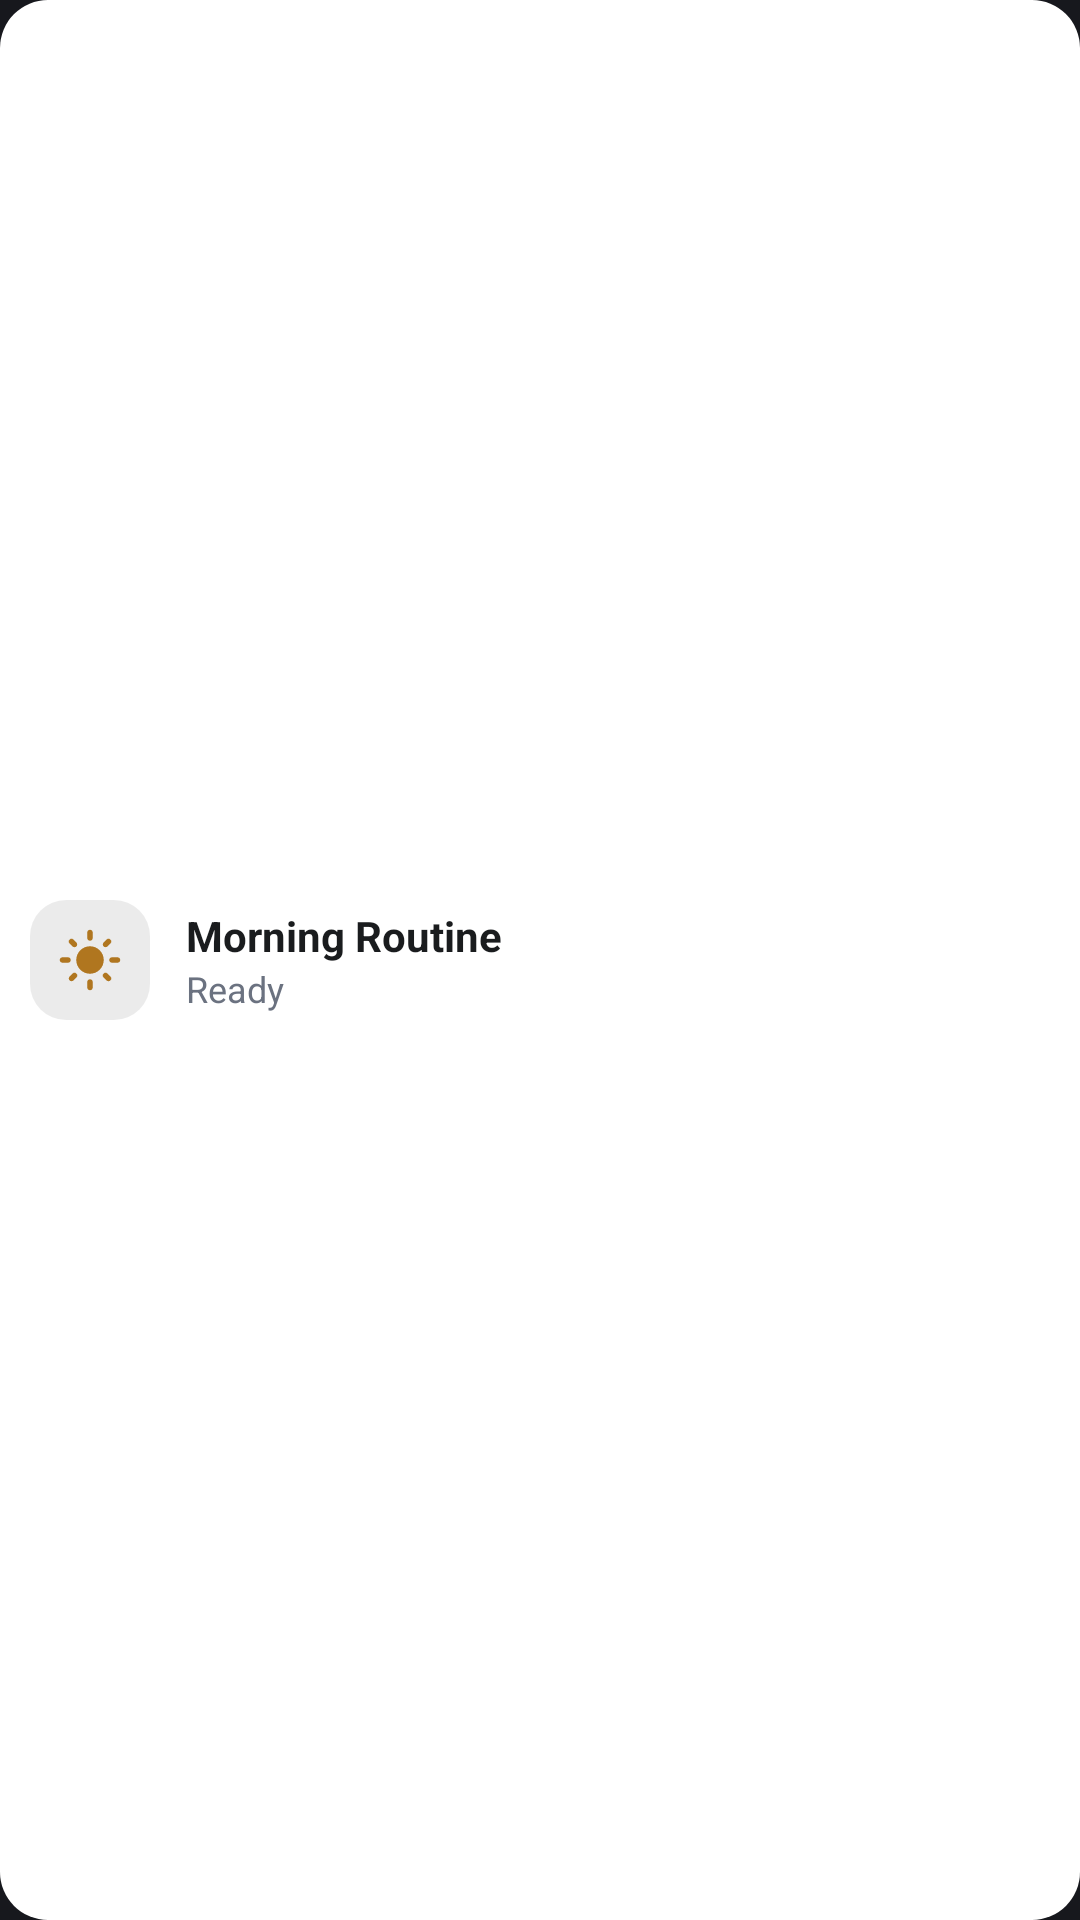

Named icons in this screenshot (1080 x 1920) and their centers, point (x, y):
macro sun: point (90, 960)
